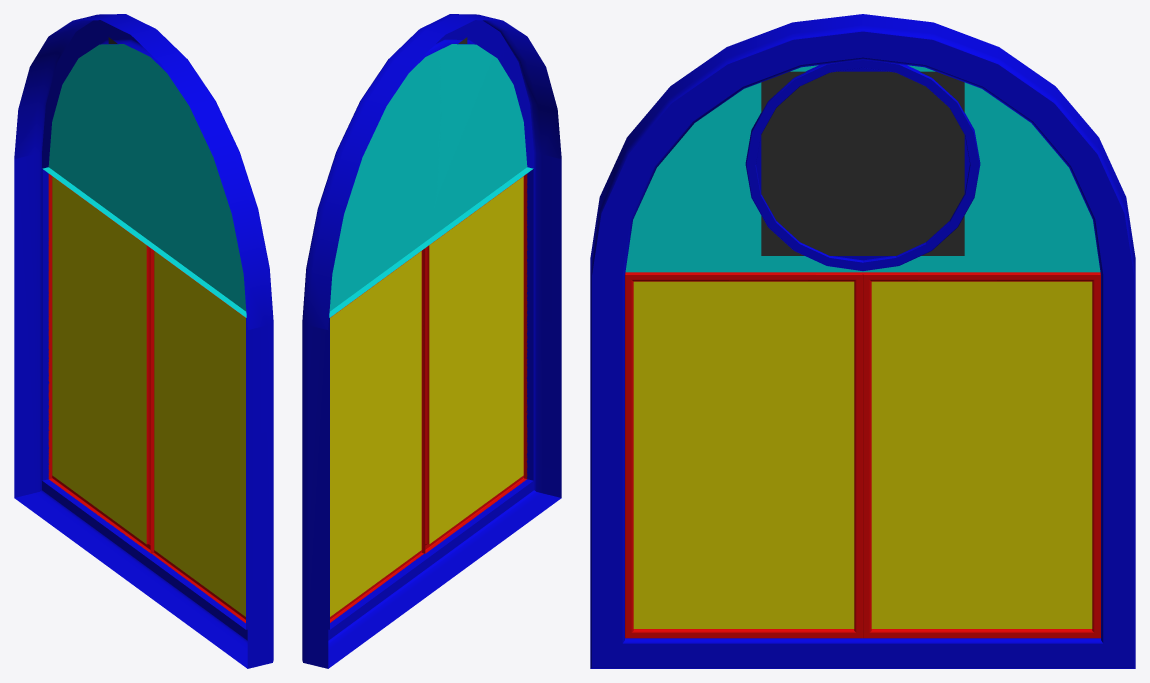
File: Dom_znati_vorota_osobnaka.fbx
3 renders of one model, left to right at view 1: azimuth 30°, elevation 25°; view 2: azimuth 150°, elevation 25°; view 3: azimuth 270°, elevation 25°, orthographic. The views are drawn at different scales.
Parts seen in each view (by area): view 1: Dom_znati_vorota_osobnaka; view 2: Dom_znati_vorota_osobnaka; view 3: Dom_znati_vorota_osobnaka.
Boxes of the visible parts, x1,y1,x2,y2 form: Dom_znati_vorota_osobnaka: (14, 14, 273, 668); Dom_znati_vorota_osobnaka: (302, 14, 561, 668); Dom_znati_vorota_osobnaka: (590, 14, 1135, 668).
Bounding box in the file's own units: 1.69 × 32.95 × 25.42.
